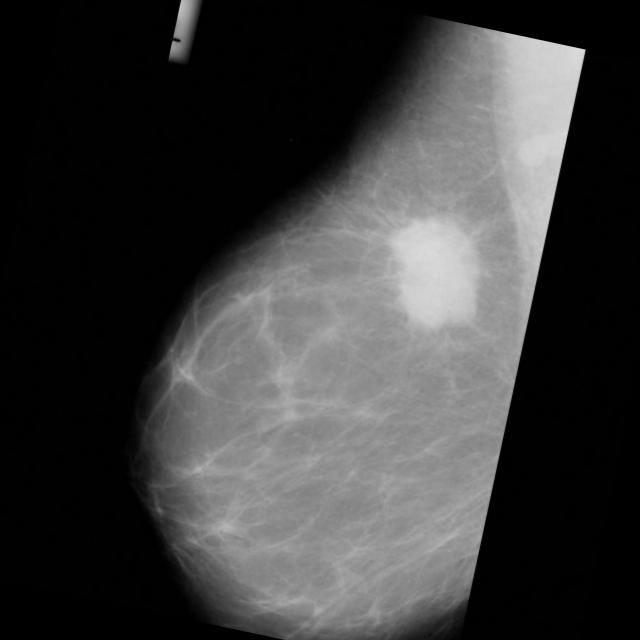SPIC: (348, 188, 516, 356)
